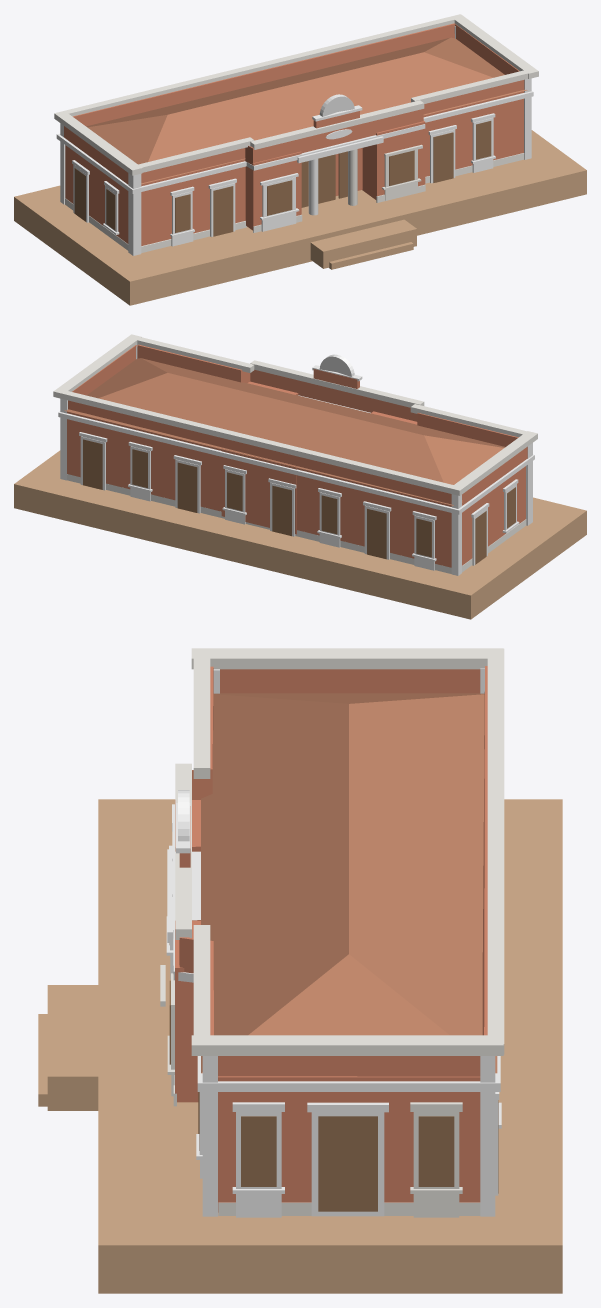
File: Estacion.fbx
3 views of the same model, one above another, from view 1: azimuth 30°, elevation 25°; view 2: azimuth 150°, elevation 25°; view 3: azimuth 270°, elevation 25° (orthographic). The views are drawn at different scales.
Parts seen in each view (by area): view 1: Portico_piso.001, Cubierta, Muros, Parapeto.003, Parapeto, Portico_dintel.006, Cornisa, Portico_piso, Portico_dintel.001, Portico_dintel.004, Portico_dintel.003, Portico_dintel.002 (+27 smaller); view 2: Portico_piso.001, Cubierta, Muros, Parapeto, Parapeto.003, Portico_dintel.006, Cornisa, Portico_dintel.001, Frente_L_ventana_0.2_apron.006, Portico_dintel.004, Portico_dintel.005, Portico_dintel.002 (+20 smaller); view 3: Portico_piso.001, Cubierta, Muros, Portico_dintel.006, Portico_piso, Parapeto.002, Portico_dintel.005, Portico_dintel.004, Extremo_1_p_hoja, Parapeto.001, Cornisa, Extremo_1_v_hoja.001 (+16 smaller).
Boxes of the visible parts, x1=… form: Portico_piso.001: x1=14, y1=130, x2=586, y2=305; Cubierta: x1=86, y1=37, x2=527, y2=184; Muros: x1=65, y1=98, x2=523, y2=245; Parapeto.003: x1=73, y1=23, x2=454, y2=126; Parapeto: x1=141, y1=80, x2=524, y2=186; Portico_dintel.006: x1=56, y1=14, x2=459, y2=116; Cornisa: x1=56, y1=91, x2=533, y2=193; Portico_piso: x1=310, y1=219, x2=416, y2=268; Portico_dintel.001: x1=250, y1=100, x2=424, y2=149; Portico_dintel.004: x1=54, y1=111, x2=142, y2=175; Portico_dintel.003: x1=129, y1=137, x2=254, y2=172; Portico_dintel.002: x1=411, y1=68, x2=536, y2=103; Portico_piso.001: x1=14, y1=450, x2=586, y2=619; Cubierta: x1=64, y1=358, x2=505, y2=505; Muros: x1=67, y1=381, x2=525, y2=567; Parapeto: x1=137, y1=344, x2=518, y2=446; Parapeto.003: x1=68, y1=400, x2=451, y2=506; Portico_dintel.006: x1=54, y1=391, x2=460, y2=495; Cornisa: x1=58, y1=395, x2=534, y2=514; Portico_dintel.001: x1=250, y1=360, x2=424, y2=407; Frente_L_ventana_0.2_apron.006: x1=67, y1=474, x2=451, y2=573; Portico_dintel.004: x1=450, y1=431, x2=537, y2=495; Portico_dintel.005: x1=53, y1=334, x2=141, y2=396; Portico_dintel.002: x1=129, y1=335, x2=254, y2=372; Portico_piso.001: x1=98, y1=799, x2=562, y2=1293; Cubierta: x1=201, y1=693, x2=497, y2=1073; Muros: x1=175, y1=800, x2=480, y2=1212; Portico_dintel.006: x1=487, y1=648, x2=504, y2=1054; Portico_piso: x1=47, y1=985, x2=98, y2=1110; Parapeto.002: x1=220, y1=669, x2=480, y2=693; Portico_dintel.005: x1=191, y1=1035, x2=503, y2=1055; Portico_dintel.004: x1=191, y1=648, x2=503, y2=669; Extremo_1_p_hoja: x1=318, y1=1116, x2=377, y2=1211; Parapeto.001: x1=218, y1=1056, x2=480, y2=1076; Cornisa: x1=172, y1=804, x2=500, y2=1091; Extremo_1_v_hoja.001: x1=418, y1=1116, x2=454, y2=1186.
Size of the model in its own units: 3117 by 903 by 1549.
